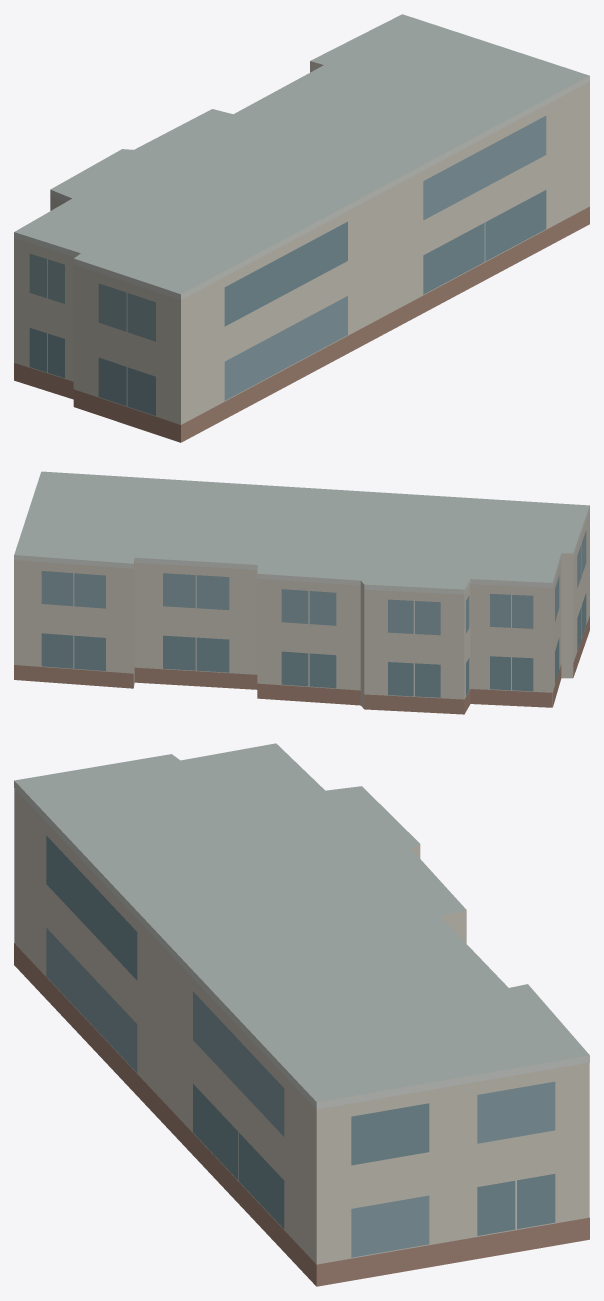
File: survey-upis-32486870.glb
The picture shows the model from 3 angles, top to bottom: view 1: azimuth 30°, elevation 25°; view 2: azimuth 150°, elevation 25°; view 3: azimuth 270°, elevation 25°; orthographic projection. The views are drawn at different scales.
Visible parts, largest first — view 1: survey-upis-32486870.tmp; view 2: survey-upis-32486870.tmp; view 3: survey-upis-32486870.tmp.
Part boxes in pixels (x1,y1,x2,y2): survey-upis-32486870.tmp: (14, 14, 589, 442); survey-upis-32486870.tmp: (14, 471, 589, 714); survey-upis-32486870.tmp: (14, 743, 589, 1286).
Bounding box in the file's own units: 25.46 × 6.1 × 17.26.
